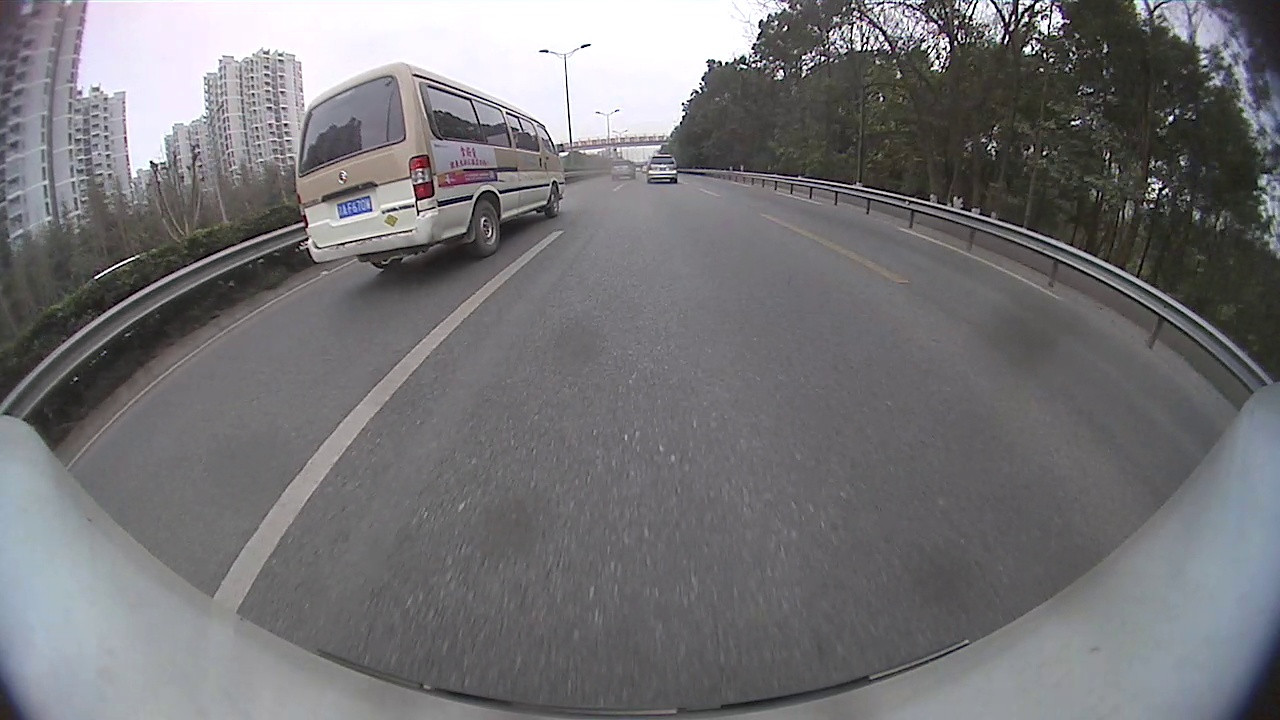car: (295, 60, 565, 273), (646, 155, 680, 183), (610, 160, 636, 180)
front: (547, 186, 562, 218)
rear: (469, 198, 503, 257)
